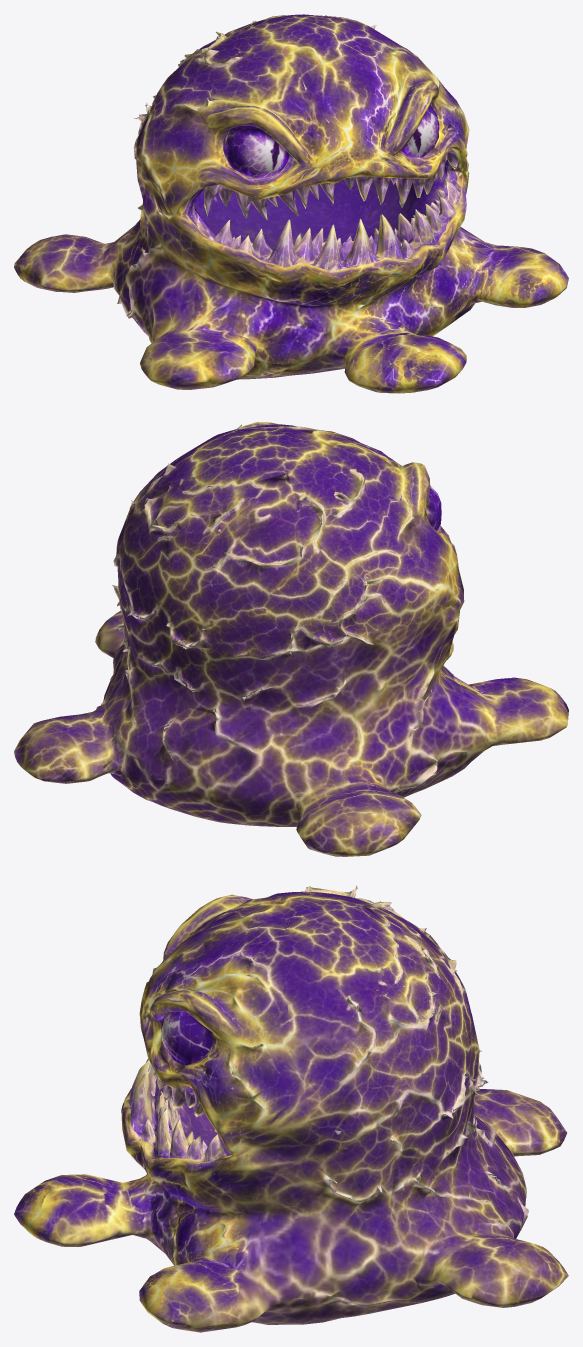
The model's file is vgel.glb.
3 views of the same model, one above another, from view 1: azimuth 30°, elevation 25°; view 2: azimuth 150°, elevation 25°; view 3: azimuth 270°, elevation 25° (orthographic). The views are drawn at different scales.
Bounding box in the file's own units: 1.82 × 1.26 × 1.82.
1 material, 1 textured.
